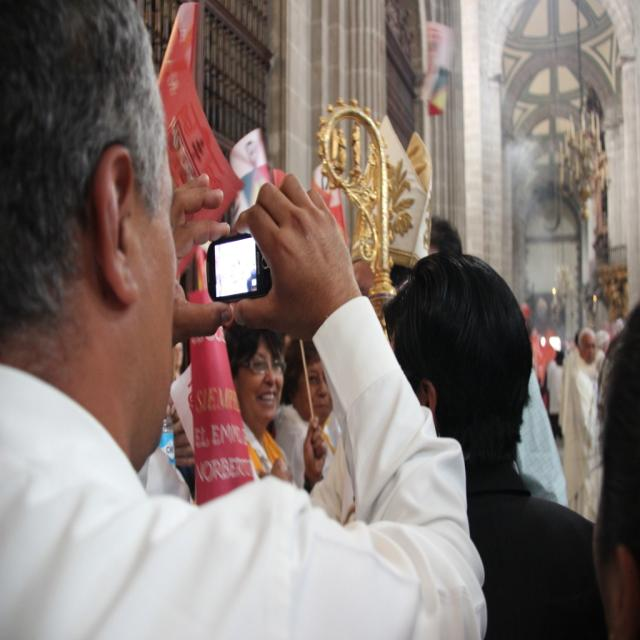Mobile-phone: (206, 232, 272, 306)
